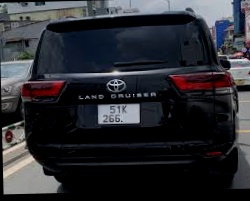Bien-so: (92, 112, 137, 136)
